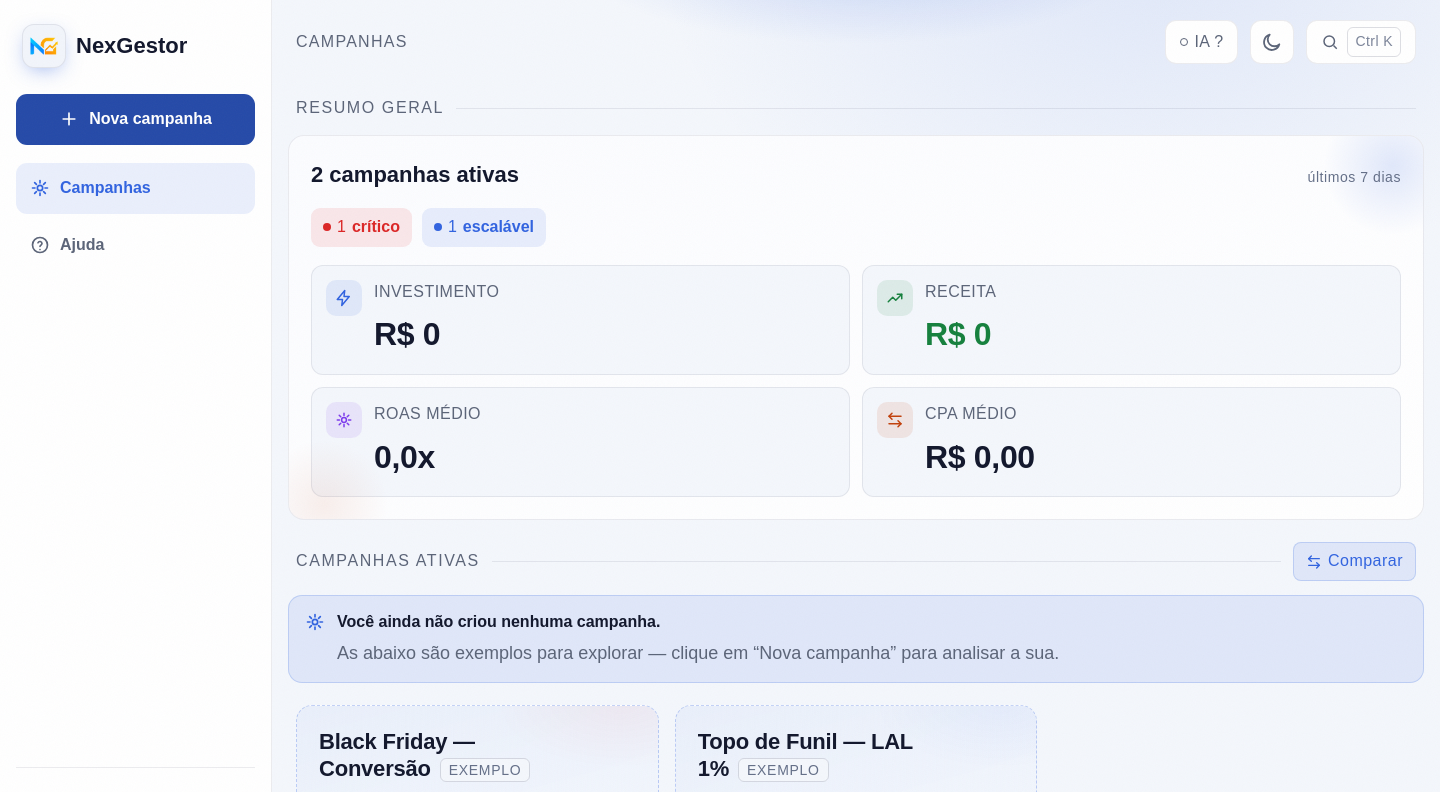
AC5 — a Central de Ajuda responde às quatro perguntas › avisa que apagar atinge todo o time e não tem volta
The image size is (1440, 792).
What coordinates should you click on to do the following:
click the button "Ajuda"
I would click on:
 (136, 245)
Its box is [16,220,255,270].
(page scrolled)
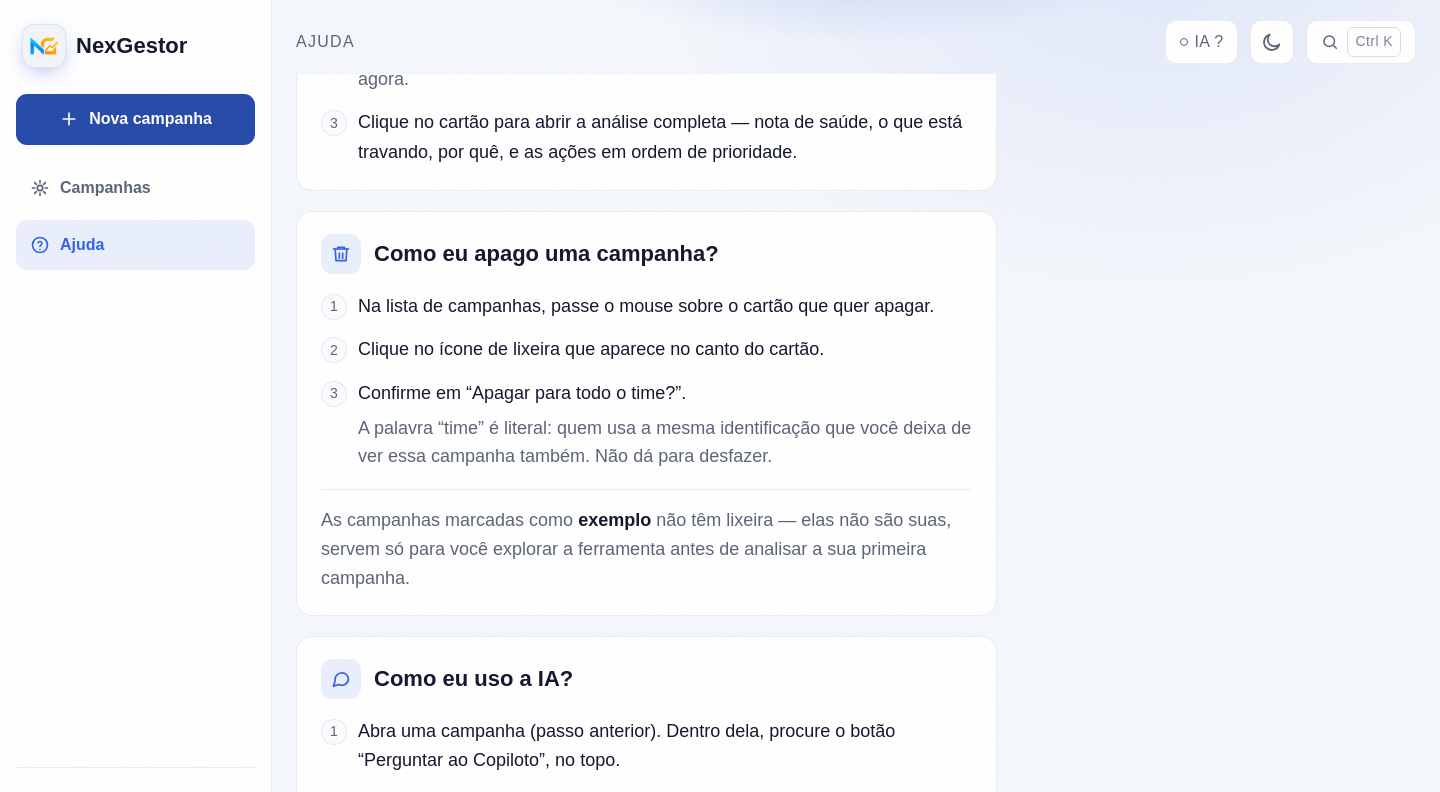
Expected: the text "Apagar para todo o time" is shown, [358,383,686,403]
Expected: the text "não dá para desfazer" is shown, [358,418,971,466]
